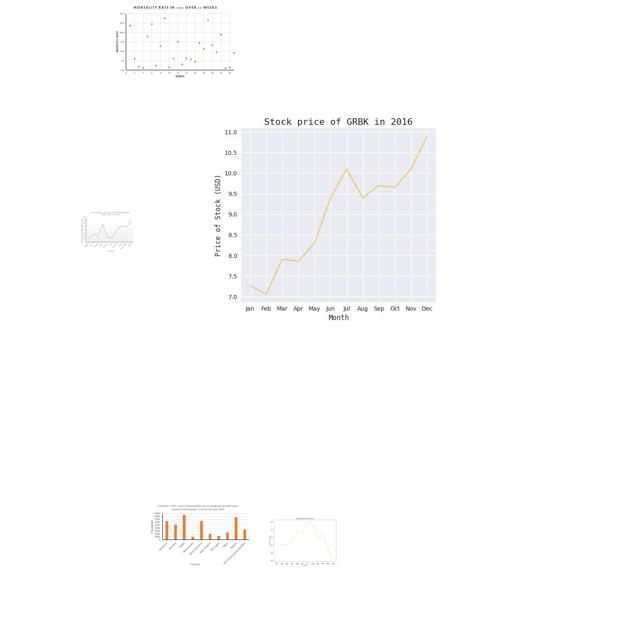Graph: (170, 101, 499, 327), (114, 5, 237, 79), (146, 503, 251, 566), (264, 513, 344, 568), (81, 211, 134, 252)
